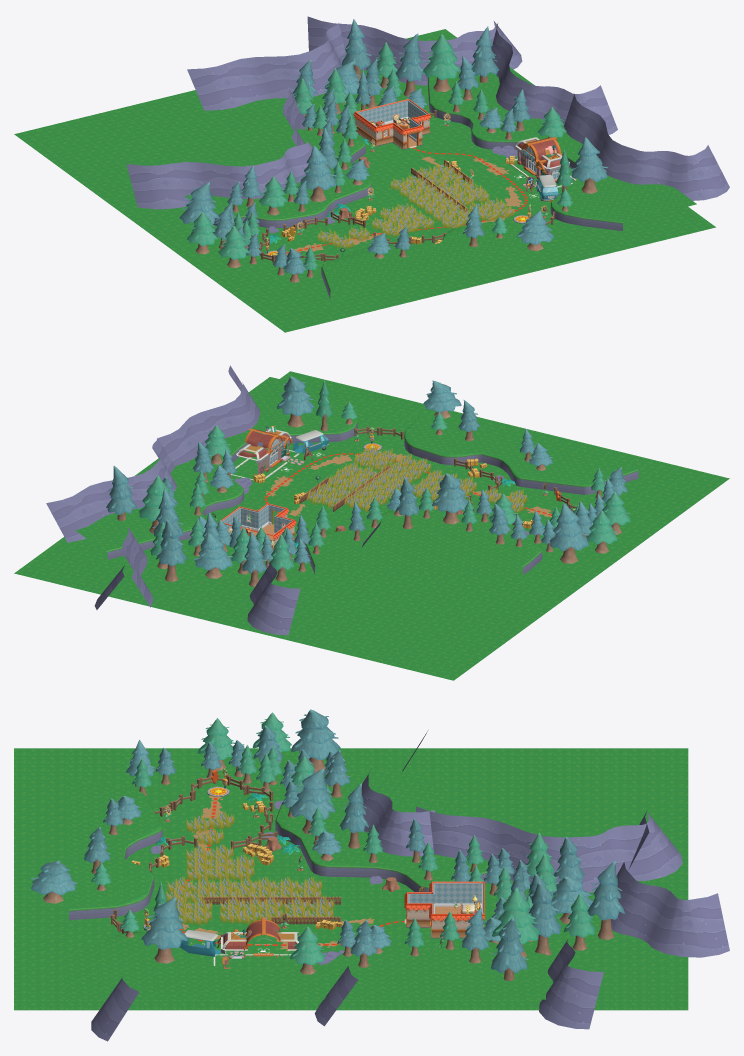
File: Map.glb
The picture shows the model from 3 angles, top to bottom: view 1: azimuth 30°, elevation 25°; view 2: azimuth 150°, elevation 25°; view 3: azimuth 270°, elevation 25°; orthographic projection. The views are drawn at different scales.
Parts seen in each view (by area): view 1: Ground_Plane, Mountains.003, Mountains.006, Mountains.001, Mountains.005, Mountains.007, PlayerHouse, SM_SpudHouse, SM_ForestTree_0.017, SM_ForestTree_2.014, SM_ForestTree_2.011, Tree.006 (+13 smaller); view 2: Ground_Plane, Mountains.005, Mountains.006, Mountains.002, SM_SpudHouse, PlayerHouse, SM_ForestTree_1.005, SM_ForestTree_2.014, SM_ForestTree_2.011, Tree.007, SM_ForestTree_1.004, Mountains.007 (+11 smaller); view 3: Ground_Plane, Mountains.002, Mountains.003, Mountains.007, PlayerHouse, Mountains.001, SM_SpudHouse, SM_ForestTree_2.014, SM_ForestTree_1.005, Tree.007, SM_ForestTree_2.011, Mountains.006 (+20 smaller).
Boxes of the visible parts, x1,y1,x2,y2 form: Ground_Plane: (14, 29, 715, 332); Mountains.003: (187, 23, 345, 110); Mountains.006: (564, 94, 729, 200); Mountains.001: (126, 140, 312, 209); Mountains.005: (491, 23, 617, 134); Mountains.007: (307, 16, 522, 85); PlayerHouse: (353, 98, 431, 148); SM_SpudHouse: (509, 137, 575, 187); SM_ForestTree_0.017: (422, 34, 461, 91); SM_ForestTree_2.014: (570, 137, 608, 193); SM_ForestTree_2.011: (299, 145, 336, 202); Tree.006: (395, 33, 425, 96); Ground_Plane: (14, 371, 729, 680); Mountains.005: (46, 439, 176, 542); Mountains.006: (157, 365, 260, 465); Mountains.002: (247, 561, 300, 635); SM_SpudHouse: (230, 425, 304, 480); PlayerHouse: (217, 503, 296, 549); SM_ForestTree_1.005: (548, 503, 588, 563); SM_ForestTree_2.014: (276, 376, 314, 427); SM_ForestTree_2.011: (432, 473, 468, 524); Tree.007: (156, 519, 187, 581); SM_ForestTree_1.004: (193, 533, 232, 578); Mountains.007: (122, 527, 153, 607); Ground_Plane: (14, 748, 688, 1010); Mountains.002: (416, 806, 682, 892); Mountains.003: (611, 811, 729, 957); Mountains.007: (539, 939, 603, 1029); PlayerHouse: (404, 881, 485, 937); Mountains.001: (362, 731, 434, 856); SM_SpudHouse: (213, 917, 298, 968); SM_ForestTree_2.014: (141, 897, 187, 963); SM_ForestTree_1.005: (291, 709, 340, 773); Tree.007: (587, 861, 624, 939); SM_ForestTree_2.011: (289, 768, 335, 834); Mountains.006: (91, 977, 139, 1041).
Size of what is drawn, in the model's own units: 73.85 by 9.44 by 76.26.
11 materials, 11 textured.
